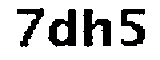5: (115, 5, 153, 53)
7: (10, 5, 46, 48)
d: (47, 8, 79, 51)
h: (80, 6, 114, 55)
